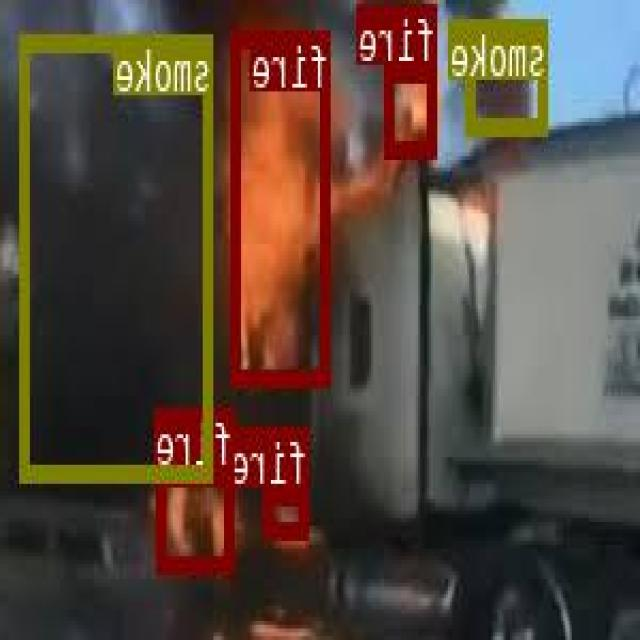fire: (233, 27, 332, 384), (158, 467, 236, 569), (388, 63, 439, 153), (264, 485, 310, 535)
smoke: (22, 31, 214, 478), (468, 16, 549, 130)
